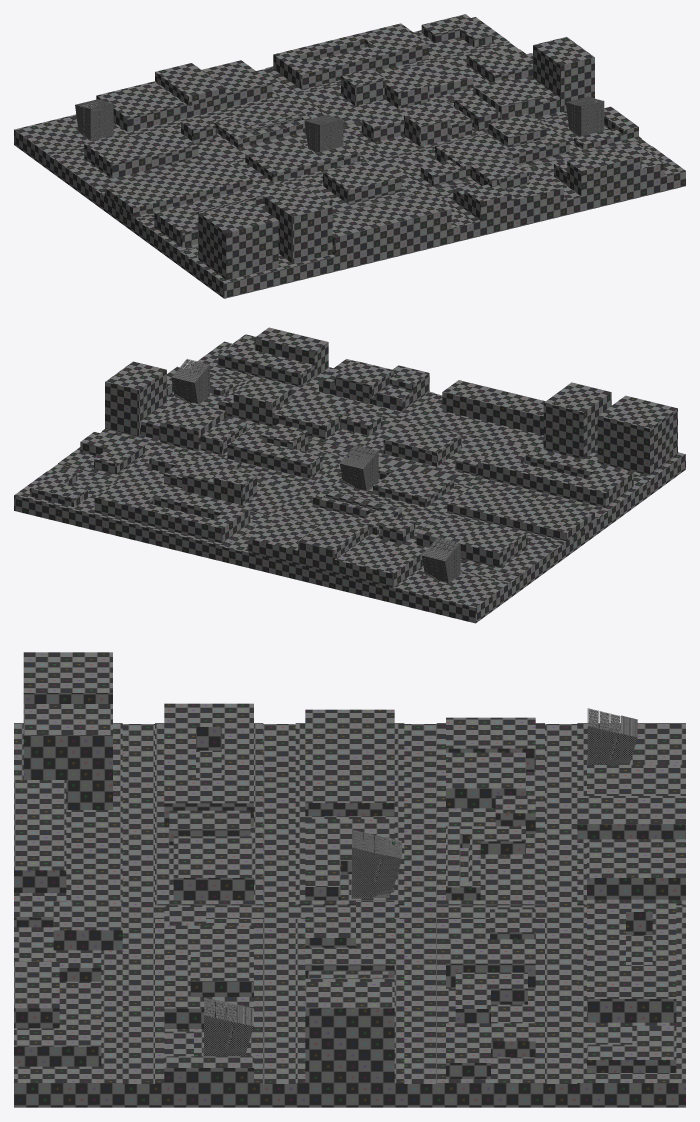
Rendered from linq_low_poly_web_app.glb.
The picture shows the model from 3 angles, top to bottom: view 1: azimuth 30°, elevation 25°; view 2: azimuth 150°, elevation 25°; view 3: azimuth 270°, elevation 25°; orthographic projection. The views are drawn at different scales.
Visible parts, largest first — view 1: Ground, DISTRICT_complex_2.001, DISTRICT_complex_2, LINQ; view 2: Ground, DISTRICT_complex_2.001, DISTRICT_complex_2, LINQ; view 3: Ground, DISTRICT_complex_2, DISTRICT_complex_2.001, LINQ, MYLINQ_roof_solar_panels, MYLINQ.
Part boxes in pixels (x1,y1,x2,y2): Ground: (14, 14, 685, 298); DISTRICT_complex_2.001: (75, 99, 113, 140); DISTRICT_complex_2: (565, 96, 604, 136); LINQ: (305, 125, 343, 152); Ground: (14, 327, 685, 623); DISTRICT_complex_2.001: (422, 537, 460, 583); DISTRICT_complex_2: (171, 359, 210, 404); LINQ: (340, 461, 378, 491); Ground: (14, 652, 685, 1107); DISTRICT_complex_2: (203, 997, 253, 1056); DISTRICT_complex_2.001: (587, 708, 637, 764); LINQ: (351, 864, 399, 898); MYLINQ_roof_solar_panels: (352, 830, 401, 858); MYLINQ: (352, 829, 401, 864).
Size of the model in its own units: 774 by 99.6 by 611.
7 materials, 7 textured.
